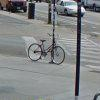Bicycle: (24, 29, 71, 68)
